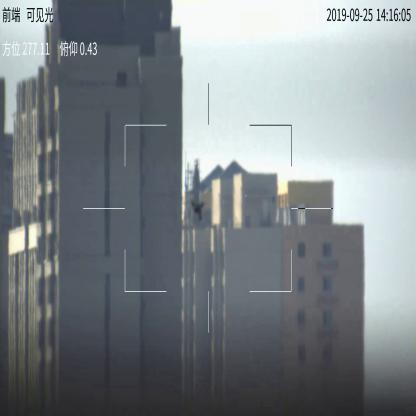uav: (190, 199, 206, 220)
